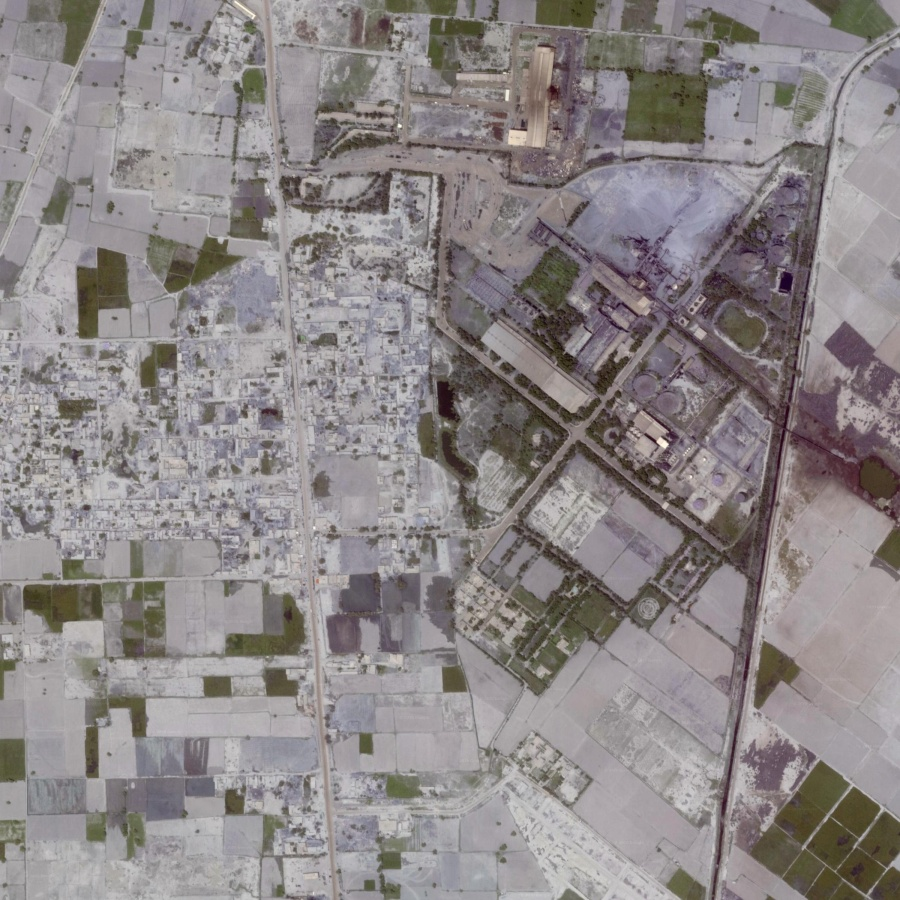PowerPlant: (579, 301, 769, 519)
